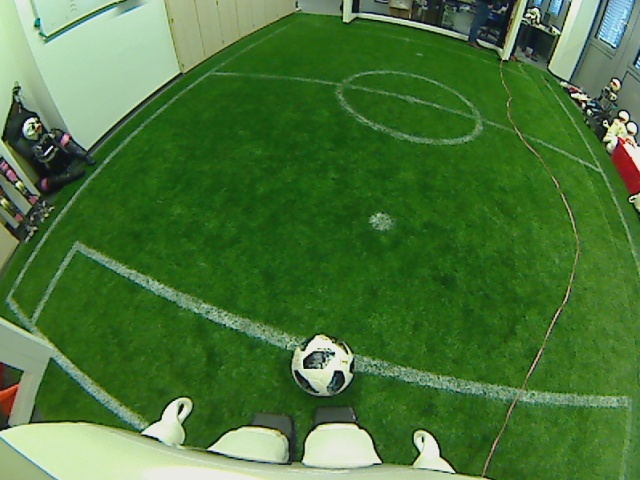ball: (289, 330, 357, 398)
